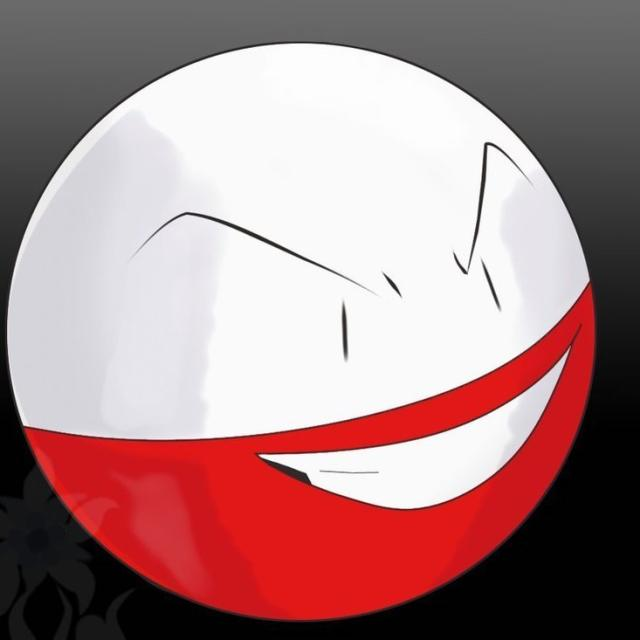Electrode: (18, 43, 602, 627)
